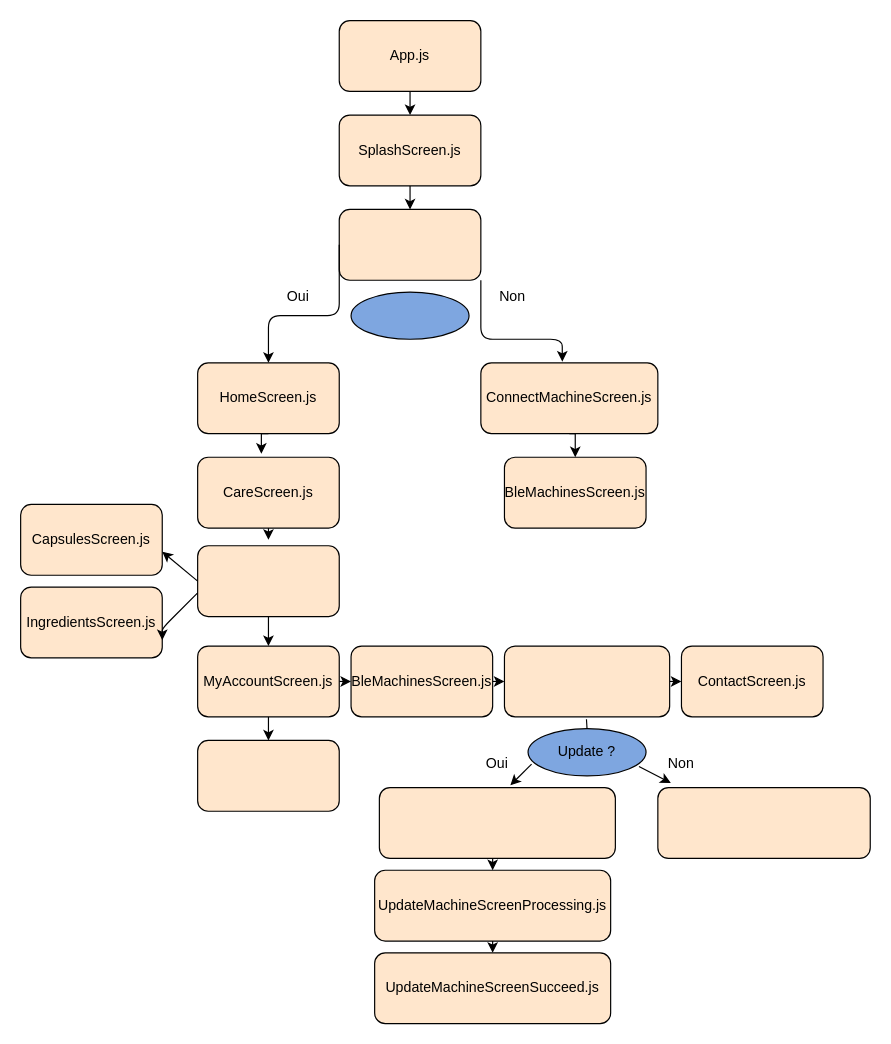
Image size: 891x1044. Some labels were removed from this diagram. The centre of each missing label's shape, as x and y in pixels:
LoginScreen.js: (409,244)
Machine connectée ?: (409,315)
PreparationScreen.js: (267,581)
SettingScreen.js: (267,775)
UpdateMachineAlreadyDone.js: (763,822)
UpdateMachineScreen.js: (586,681)
UpdateMachineScreenFound.js: (496,822)
